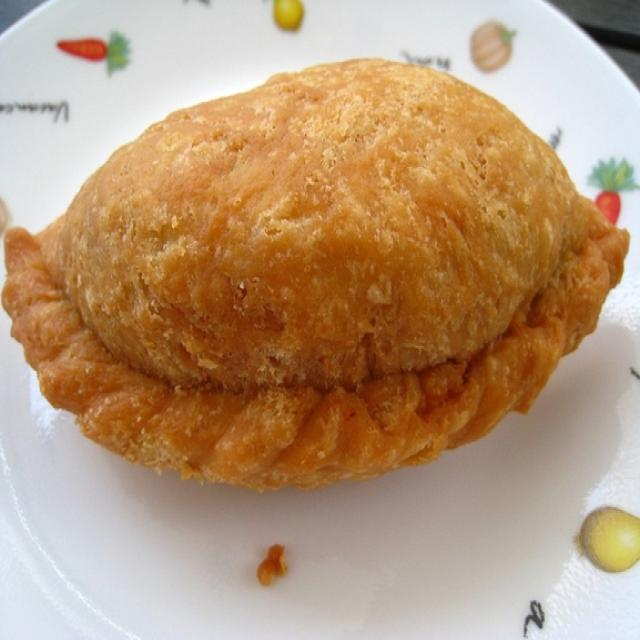炸货点心: (28, 24, 618, 615)
